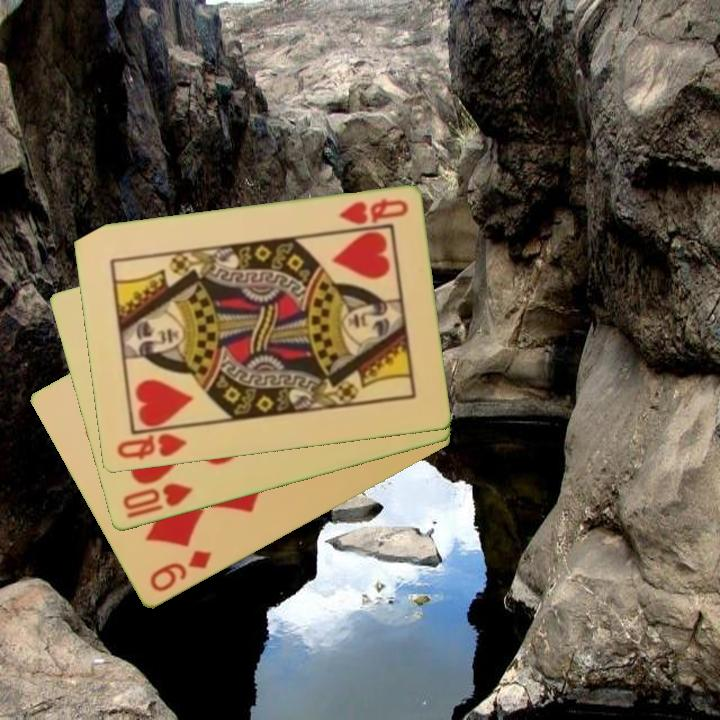10h: (119, 480, 195, 522)
9d: (146, 547, 214, 596)
Qh: (113, 424, 192, 463), (335, 195, 411, 228)
